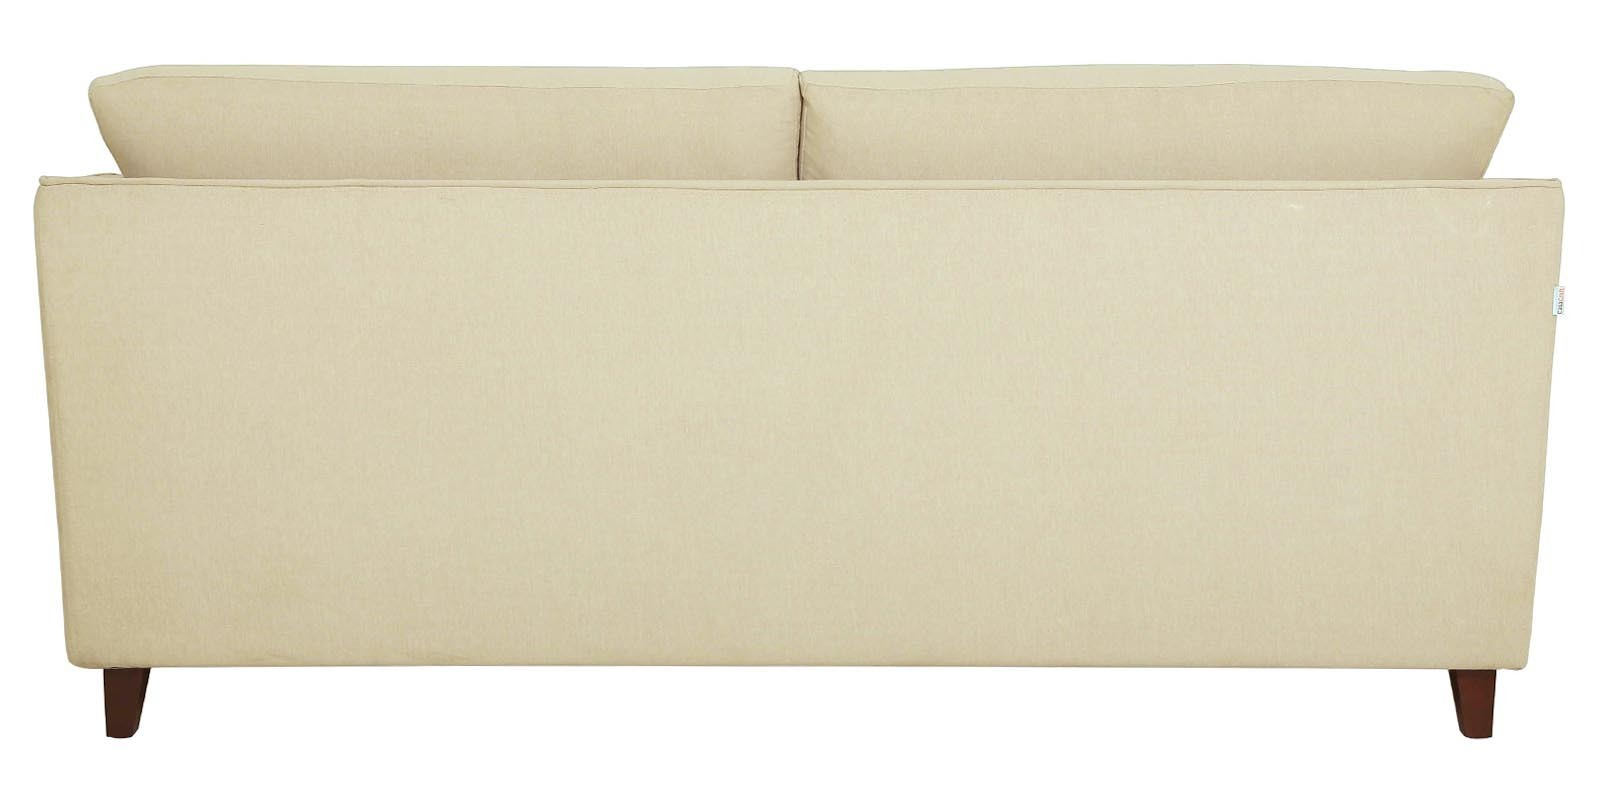Miranda Three Seater Sofa in Beige Colour by CasaCraft: (33, 62, 1566, 741)
